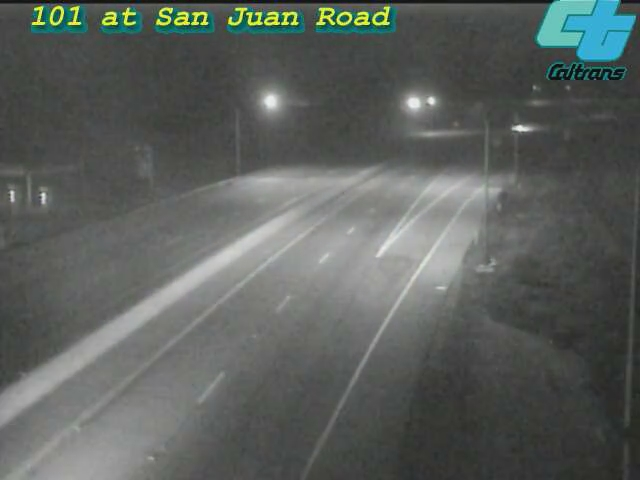vehicle: (495, 101, 545, 151)
